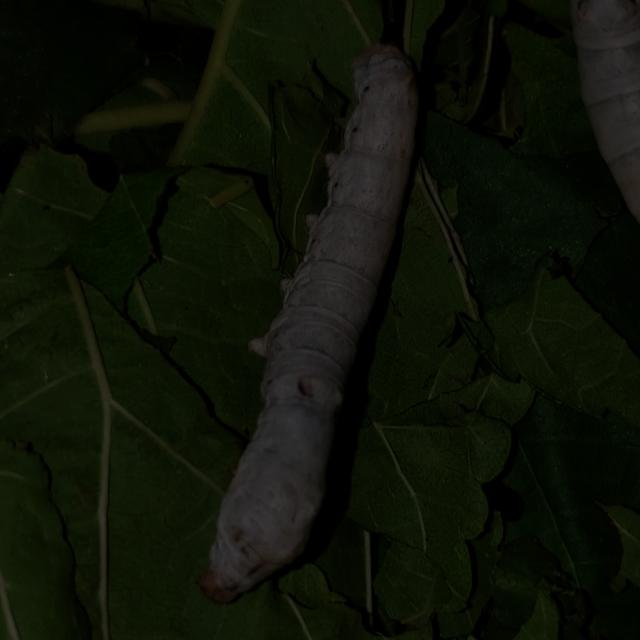Healthy: (196, 36, 426, 604)
